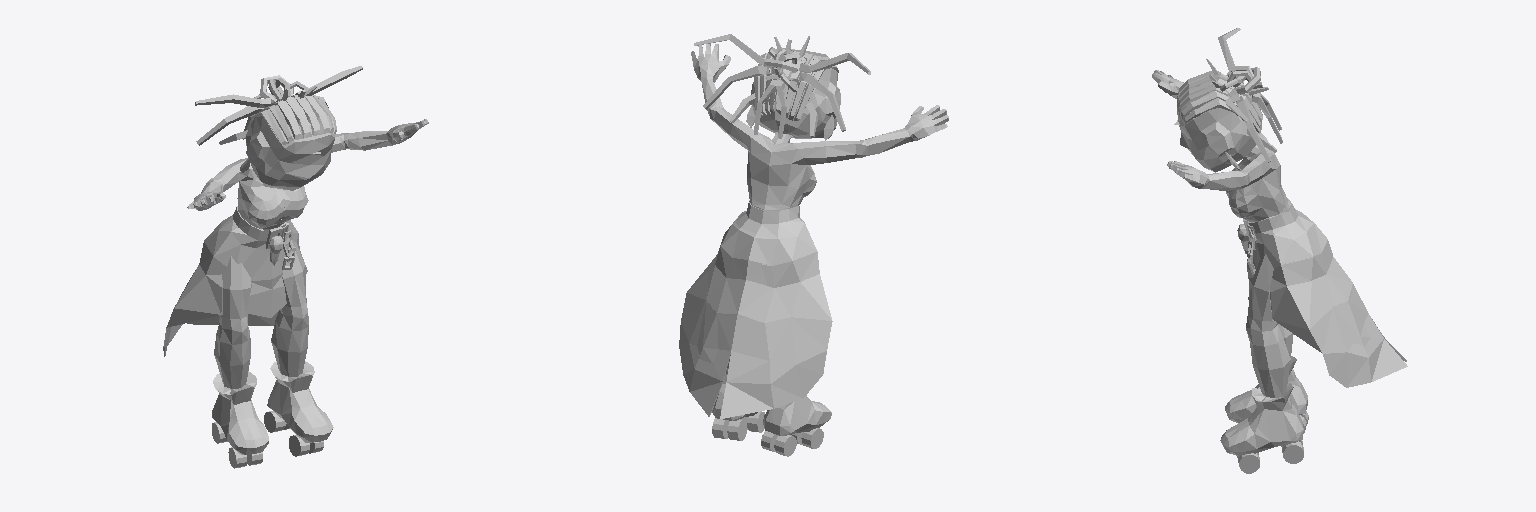
The model's file is bruja_000145.obj.
The picture shows the model from 3 angles: view 1: azimuth 30°, elevation 25°; view 2: azimuth 150°, elevation 25°; view 3: azimuth 270°, elevation 25°; orthographic projection.
Visible parts, largest first — view 1: Bruja_Plane.001; view 2: Bruja_Plane.001; view 3: Bruja_Plane.001.
Boxes of the visible parts, box(x1,y1,x2,y2) form: Bruja_Plane.001: box(163, 66, 428, 468); Bruja_Plane.001: box(679, 34, 948, 456); Bruja_Plane.001: box(1152, 28, 1407, 473).
Bounding box in the file's own units: 10.76 × 16.16 × 9.63.